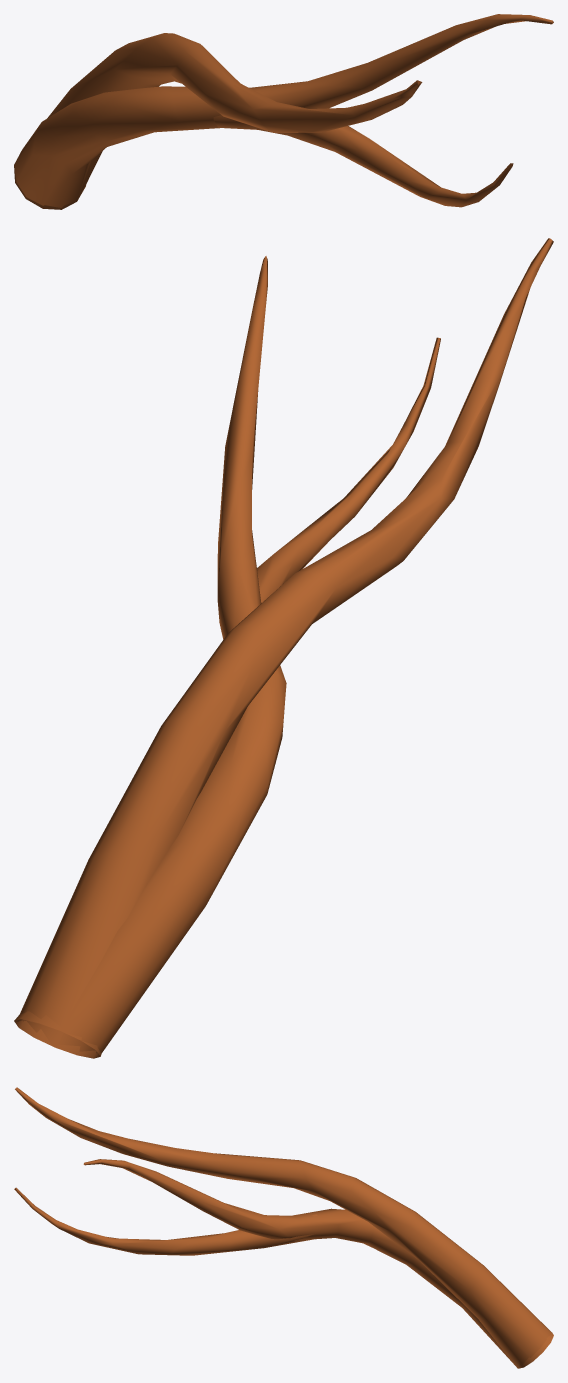
The model's file is arrayan_branch_1_LOD.fbx.
3 views of the same model, one above another, from view 1: azimuth 30°, elevation 25°; view 2: azimuth 150°, elevation 25°; view 3: azimuth 270°, elevation 25° (orthographic). The views are drawn at different scales.
Parts seen in each view (by area): view 1: brunch_1_LOD0; view 2: brunch_1_LOD0; view 3: brunch_1_LOD0.
Boxes of the visible parts, x1,y1,x2,y2 form: brunch_1_LOD0: [14, 14, 553, 209]; brunch_1_LOD0: [14, 238, 553, 1058]; brunch_1_LOD0: [14, 1087, 553, 1368].
Size of what is drawn, in the model's own units: 528 by 882 by 1585.
